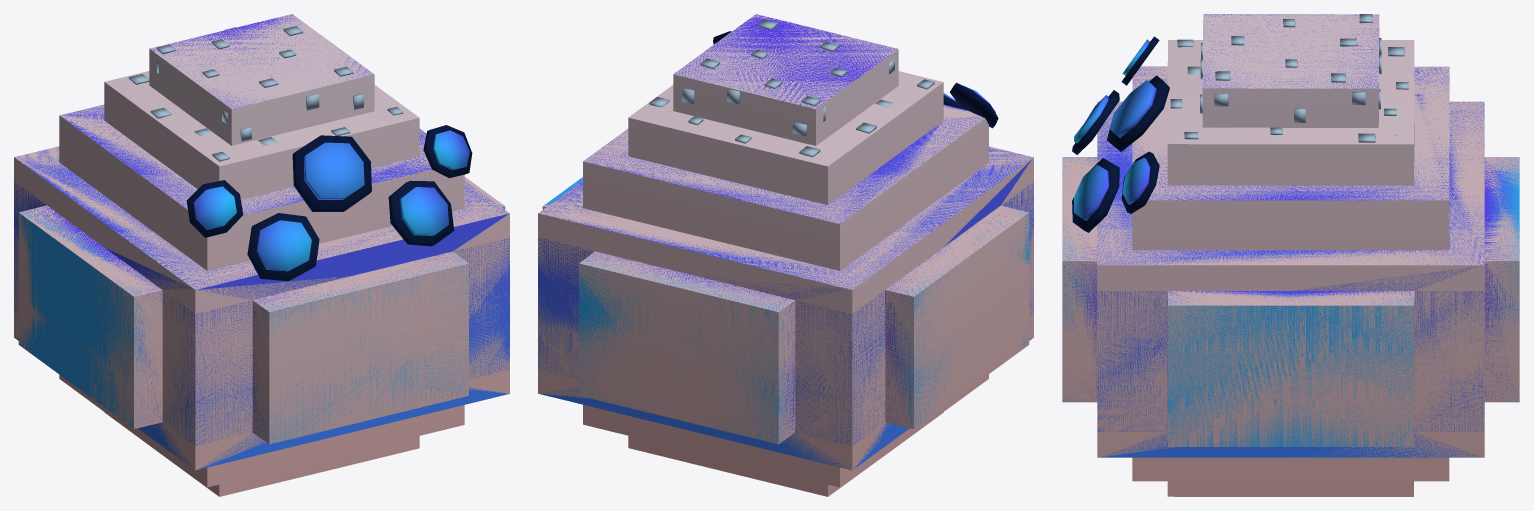
File: Abyss_Ocean.fbx
3 views of the same model, side by side, from view 1: azimuth 30°, elevation 25°; view 2: azimuth 150°, elevation 25°; view 3: azimuth 270°, elevation 25° (orthographic). The views are drawn at different scales.
Visible parts, largest first — view 1: Beluga Whale_Egg, Shark_Egg, El_Maja_Egg, Whale Shark_Egg; view 2: Beluga Whale_Egg, Shark_Egg, Whale Shark_Egg, El_Maja_Egg; view 3: Beluga Whale_Egg, Shark_Egg, El_Maja_Egg, Whale Shark_Egg.
Boxes of the visible parts, box(x1,y1,x2,y2) form: Beluga Whale_Egg: box(14, 14, 509, 496); Shark_Egg: box(14, 14, 509, 469); El_Maja_Egg: box(186, 125, 472, 281); Whale Shark_Egg: box(128, 26, 403, 161); Beluga Whale_Egg: box(538, 14, 1033, 496); Shark_Egg: box(538, 14, 1033, 469); Whale Shark_Egg: box(649, 20, 934, 157); El_Maja_Egg: box(713, 31, 998, 128); Beluga Whale_Egg: box(1062, 14, 1519, 496); Shark_Egg: box(1062, 14, 1519, 457); El_Maja_Egg: box(1072, 36, 1169, 232); Whale Shark_Egg: box(1170, 14, 1408, 142).
Bounding box in the file's own units: 78.02 × 74.5 × 78.02.
